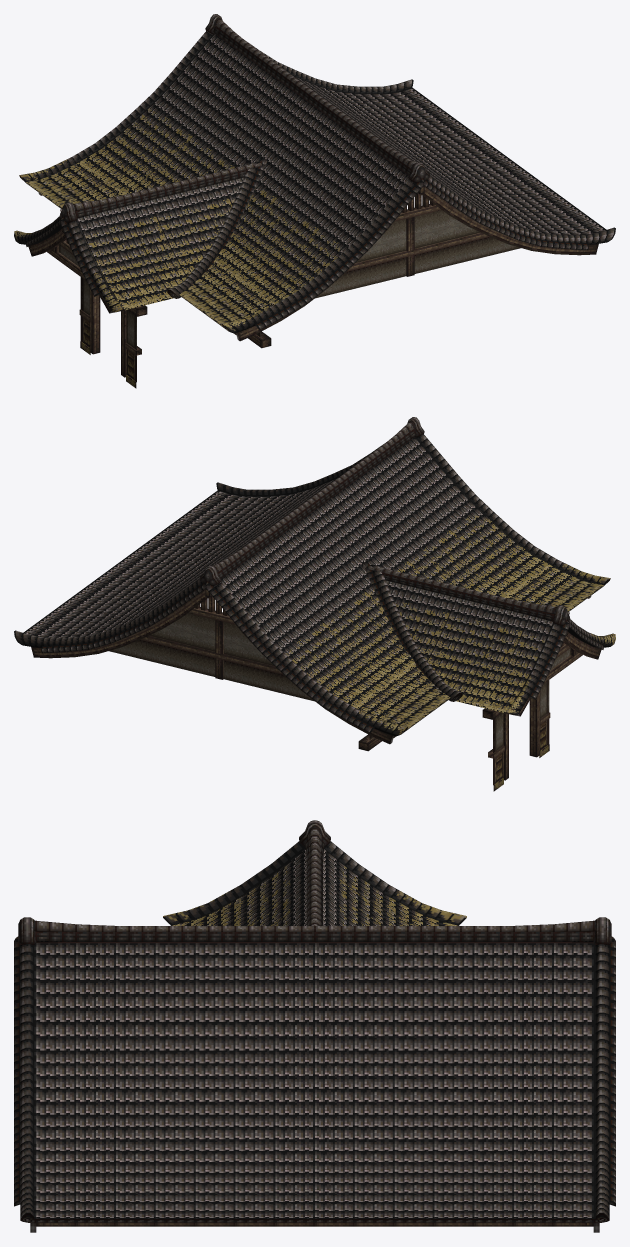
Rendered from EnvBdg_Desert_Dojo_A_Outdoor_A.FBX.
3 views of the same model, one above another, from view 1: azimuth 30°, elevation 25°; view 2: azimuth 150°, elevation 25°; view 3: azimuth 270°, elevation 25° (orthographic). The views are drawn at different scales.
Visible parts, largest first — view 1: EnvBdg_Desert_Dojo_A_Outdoor_A; view 2: EnvBdg_Desert_Dojo_A_Outdoor_A; view 3: EnvBdg_Desert_Dojo_A_Outdoor_A.
Boxes of the visible parts, box(x1,y1,x2,y2) form: EnvBdg_Desert_Dojo_A_Outdoor_A: box(14, 14, 615, 388); EnvBdg_Desert_Dojo_A_Outdoor_A: box(14, 417, 615, 791); EnvBdg_Desert_Dojo_A_Outdoor_A: box(14, 820, 615, 1232).
Bounding box in the file's own units: 1863 × 895 × 1512.
